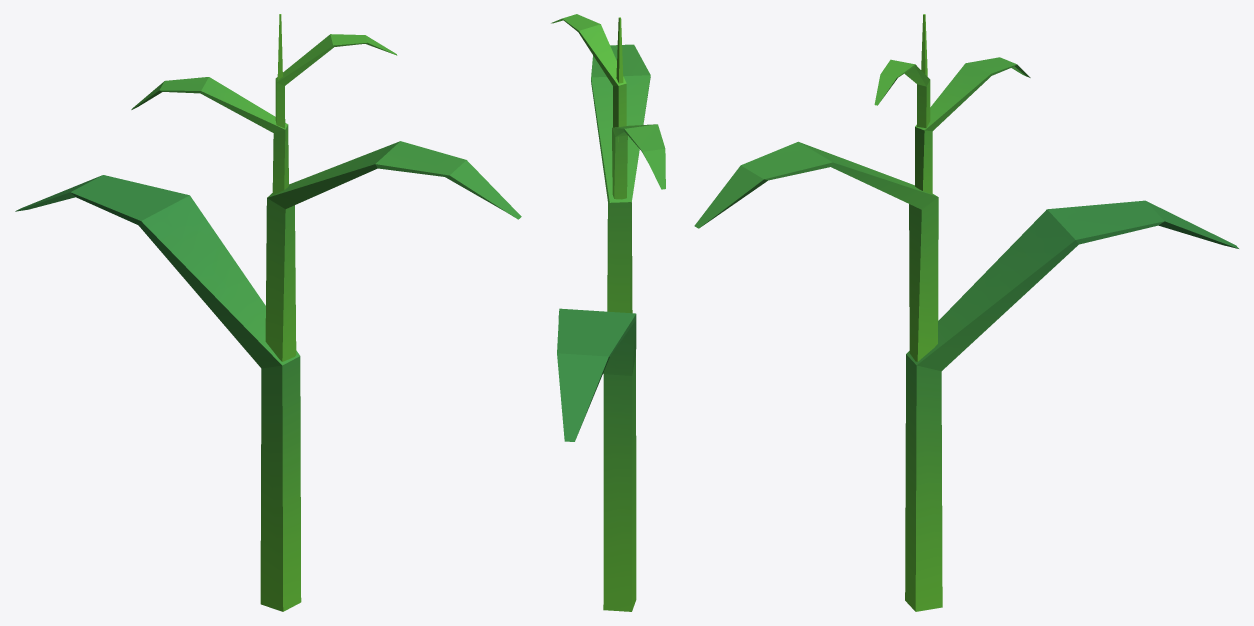
Rendered from corn3.glb.
3 renders of one model, left to right at view 1: azimuth 30°, elevation 25°; view 2: azimuth 150°, elevation 25°; view 3: azimuth 270°, elevation 25°, orthographic.
Parts seen in each view (by area): view 1: Corn3; view 2: Corn3; view 3: Corn3.
Boxes of the visible parts, x1=… form: Corn3: x1=15, y1=14, x2=521, y2=611; Corn3: x1=551, y1=14, x2=665, y2=611; Corn3: x1=694, y1=14, x2=1238, y2=611.
Size of the model in its own units: 0.4104 by 0.9656 by 0.8099.
1 material, 1 textured.
